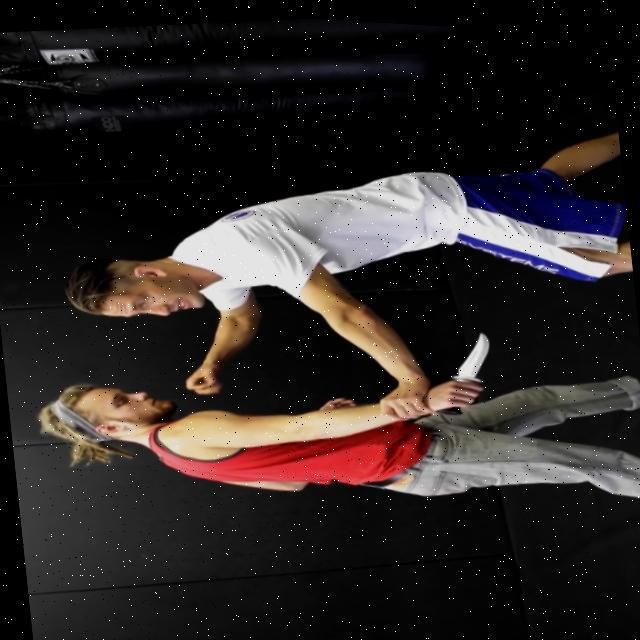knife: (438, 319, 506, 380)
